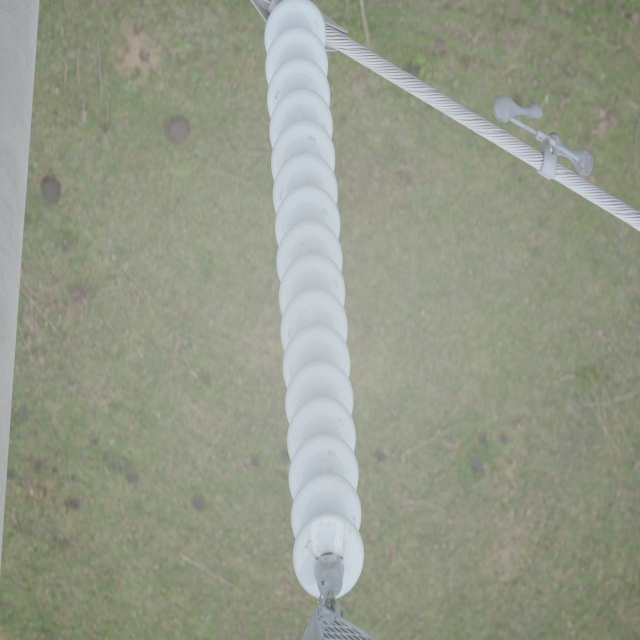insulator: (262, 1, 363, 596)
